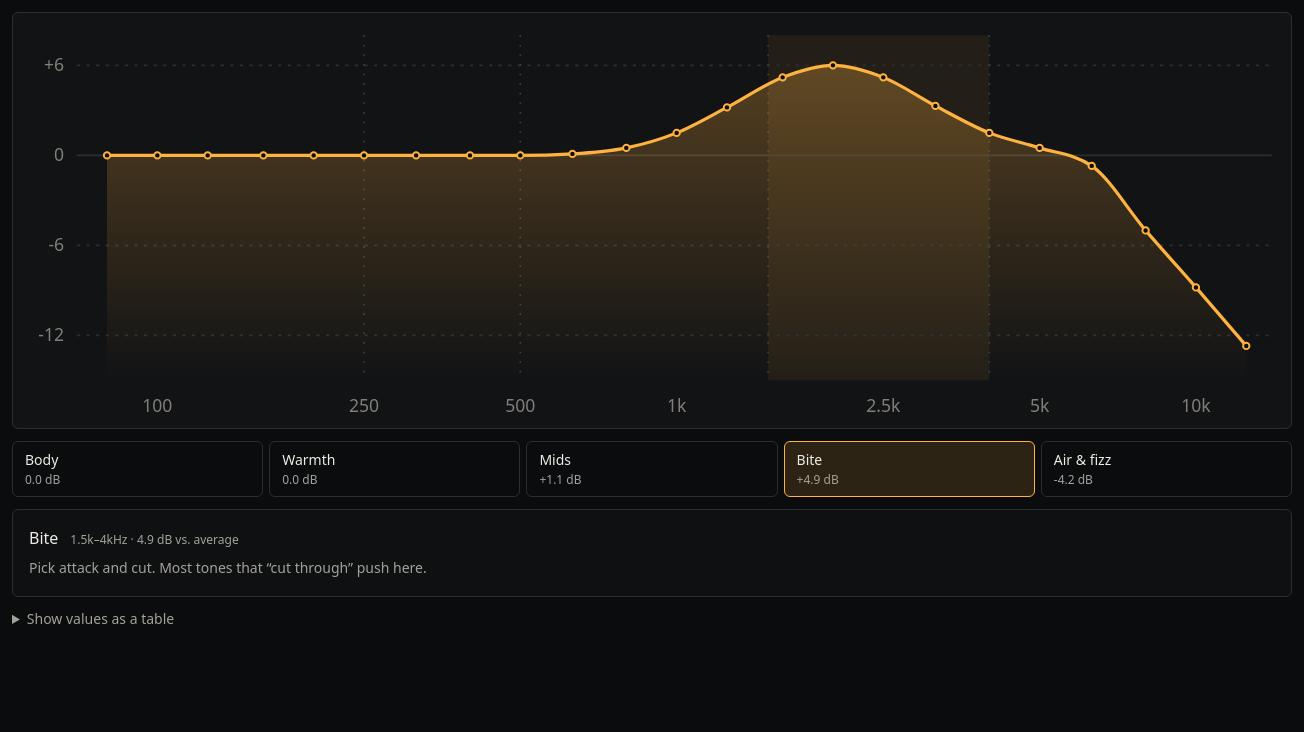
Fingerprint › selects the loudest band first and explains any band on demand
Click the button "Body 0.0 dB". click: (138,469)
box: x1=12 y1=441 x2=263 y2=497
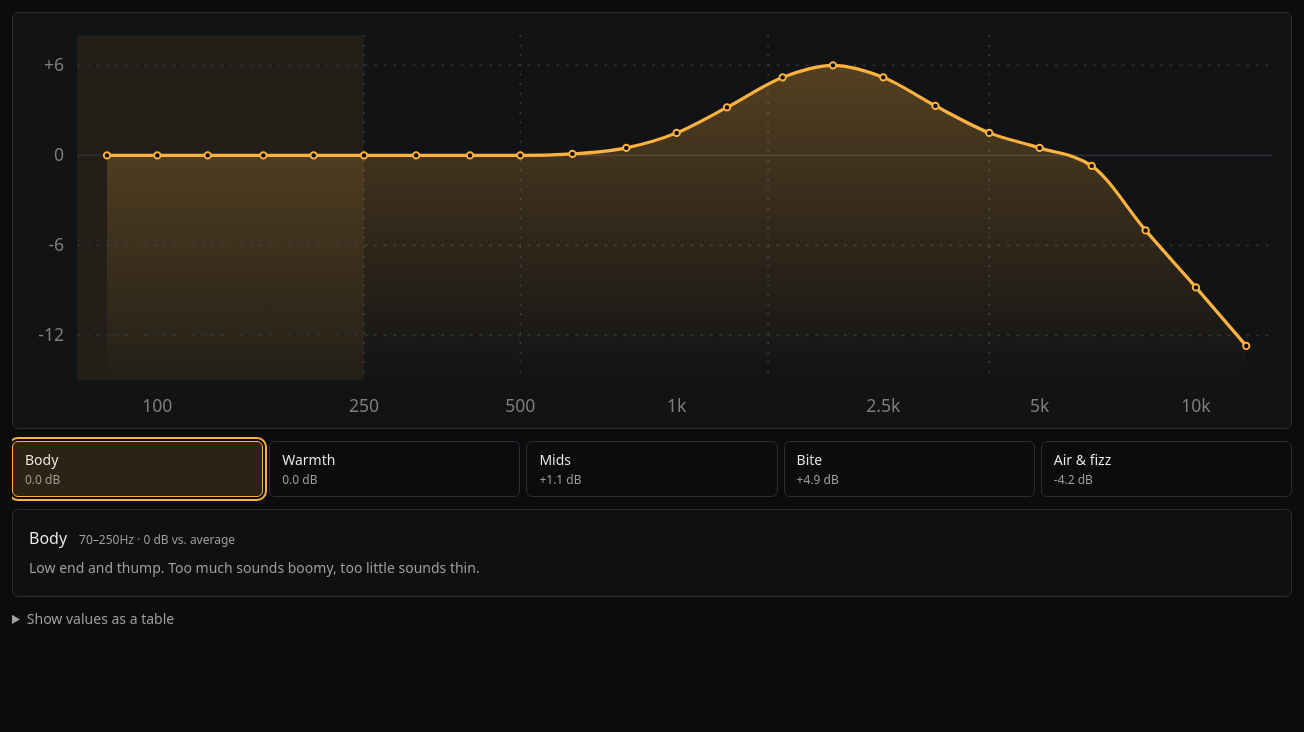
Expected: the text "Low end and thump" is shown, x1=29 y1=558 x2=480 y2=577
